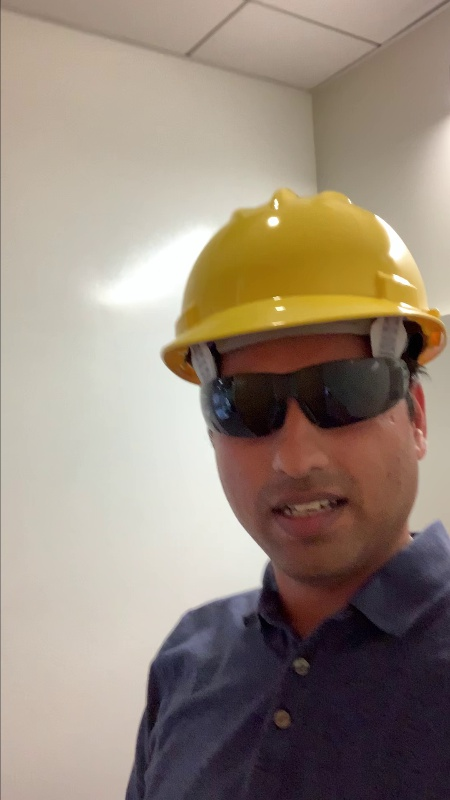glasses: (183, 358, 426, 426)
helmet: (128, 187, 446, 354)
